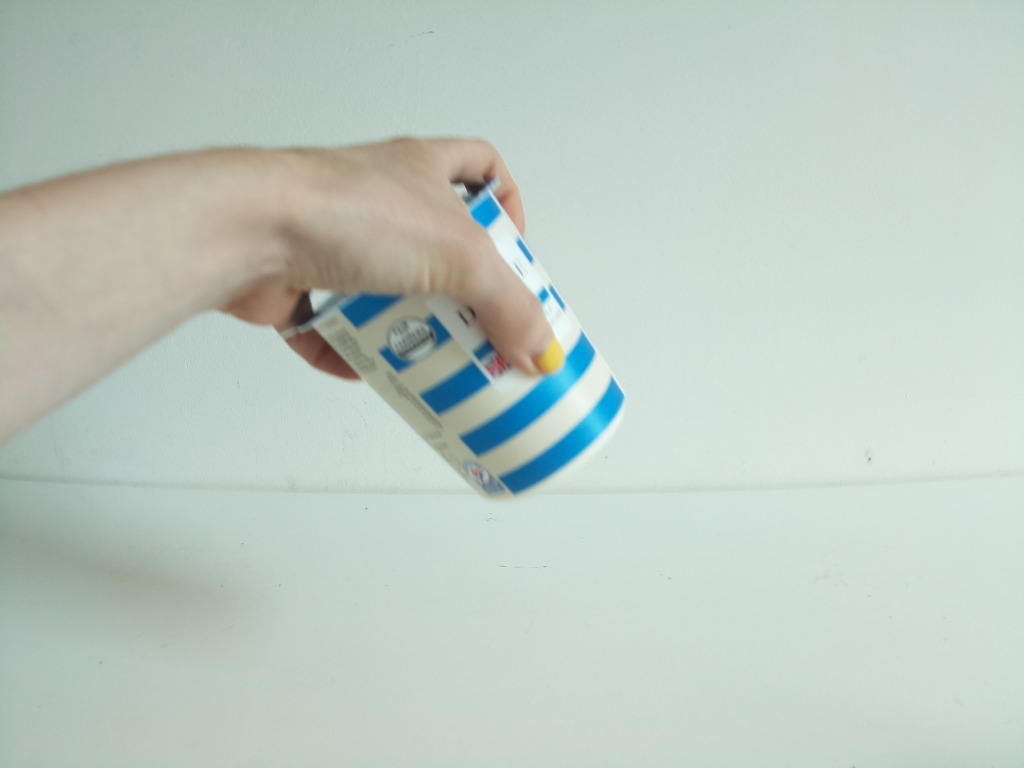cream: (282, 170, 626, 510)
